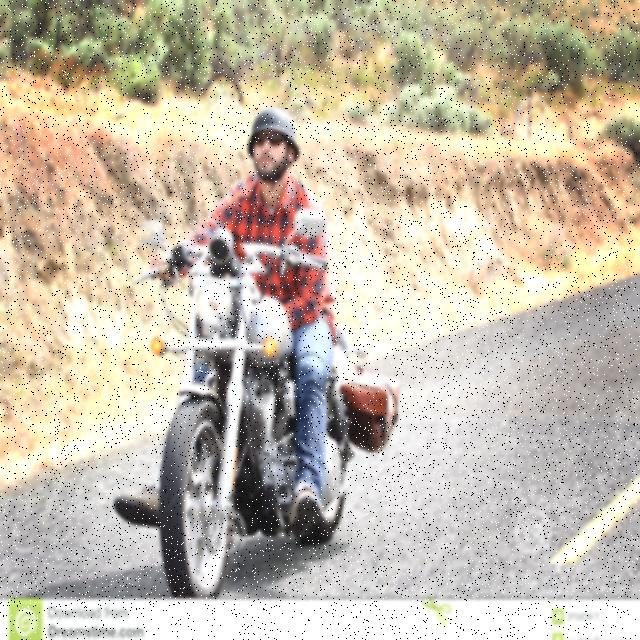not_triplets: (124, 75, 399, 588)
with-helmet: (239, 99, 305, 190)
